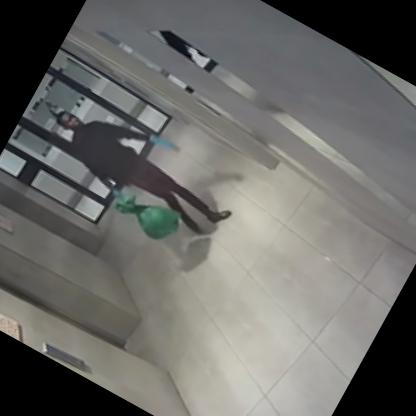Human Body: (32, 90, 242, 250)
